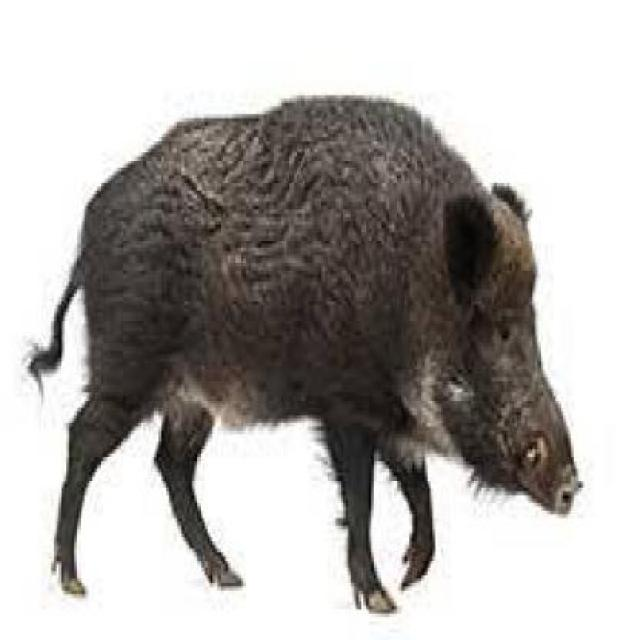wildboar: (21, 92, 588, 630)
